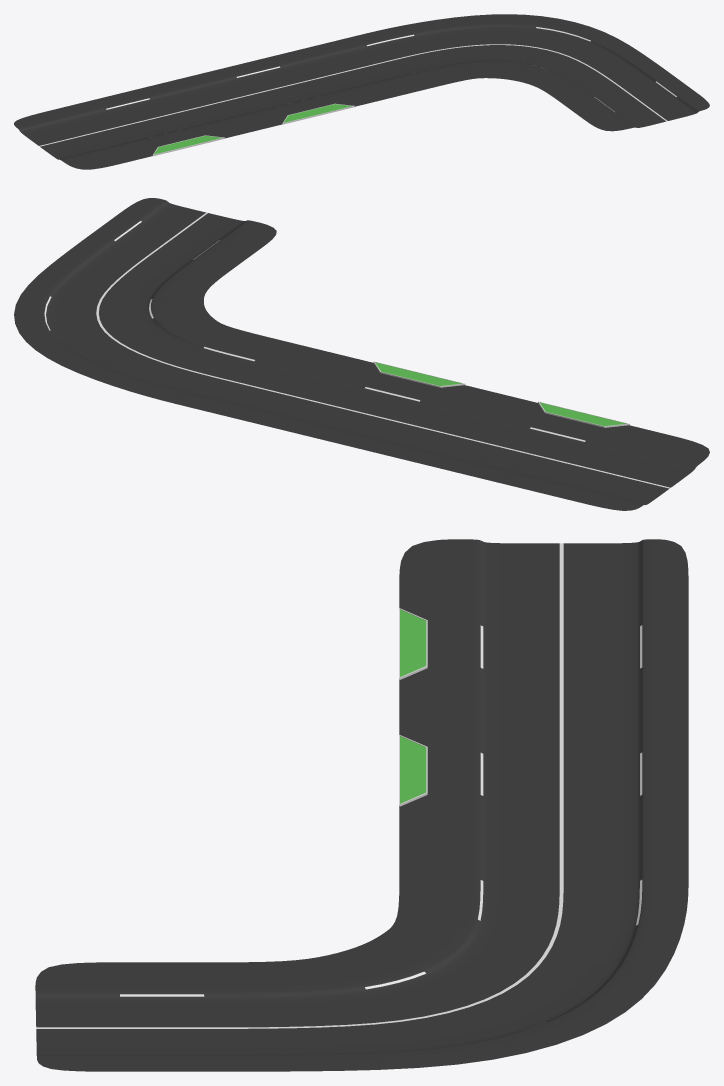
Rendered from Street.fbx.
The picture shows the model from 3 angles, top to bottom: view 1: azimuth 30°, elevation 25°; view 2: azimuth 150°, elevation 25°; view 3: azimuth 270°, elevation 25°; orthographic projection. The views are drawn at different scales.
Parts seen in each view (by area): view 1: Plane.096, Plane.097, Plane.098; view 2: Plane.096, Plane.097, Plane.098; view 3: Plane.096, Plane.097, Plane.098.
Boxes of the visible parts, x1=… form: Plane.096: x1=14, y1=14, x2=709, y2=169; Plane.097: x1=282, y1=103, x2=354, y2=124; Plane.098: x1=152, y1=135, x2=224, y2=156; Plane.096: x1=14, y1=198, x2=709, y2=510; Plane.097: x1=373, y1=361, x2=465, y2=387; Plane.098: x1=538, y1=401, x2=629, y2=427; Plane.096: x1=35, y1=539, x2=688, y2=1071; Plane.097: x1=399, y1=734, x2=427, y2=807; Plane.098: x1=399, y1=608, x2=427, y2=680.
Size of the model in its own units: 23156 by 133 by 11997.
